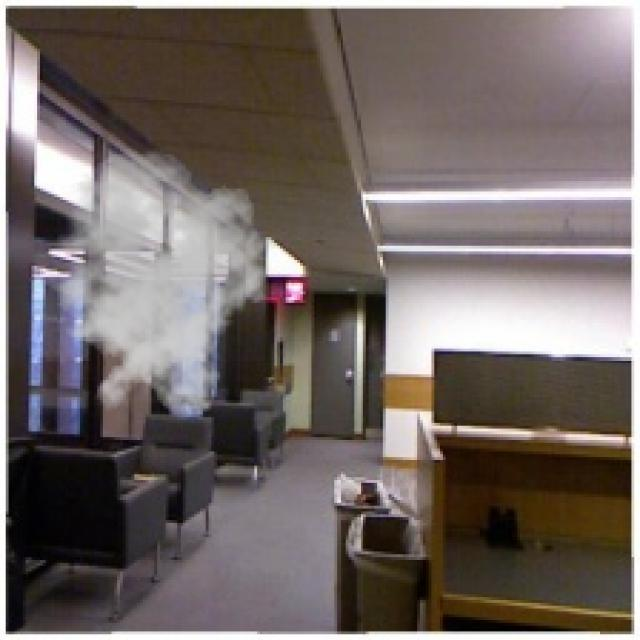smoke: (28, 149, 283, 420)
